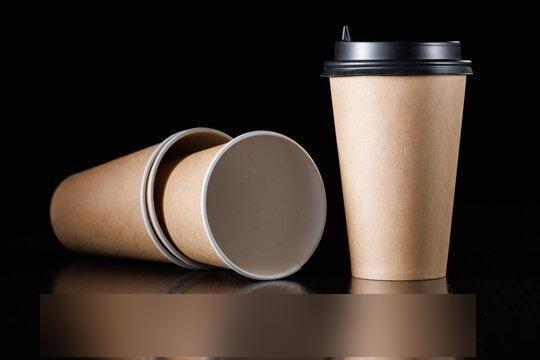cup-disposable: (44, 125, 330, 283), (320, 34, 476, 285)
